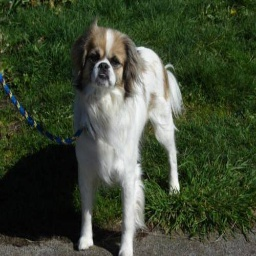dog: (69, 15, 185, 252)
